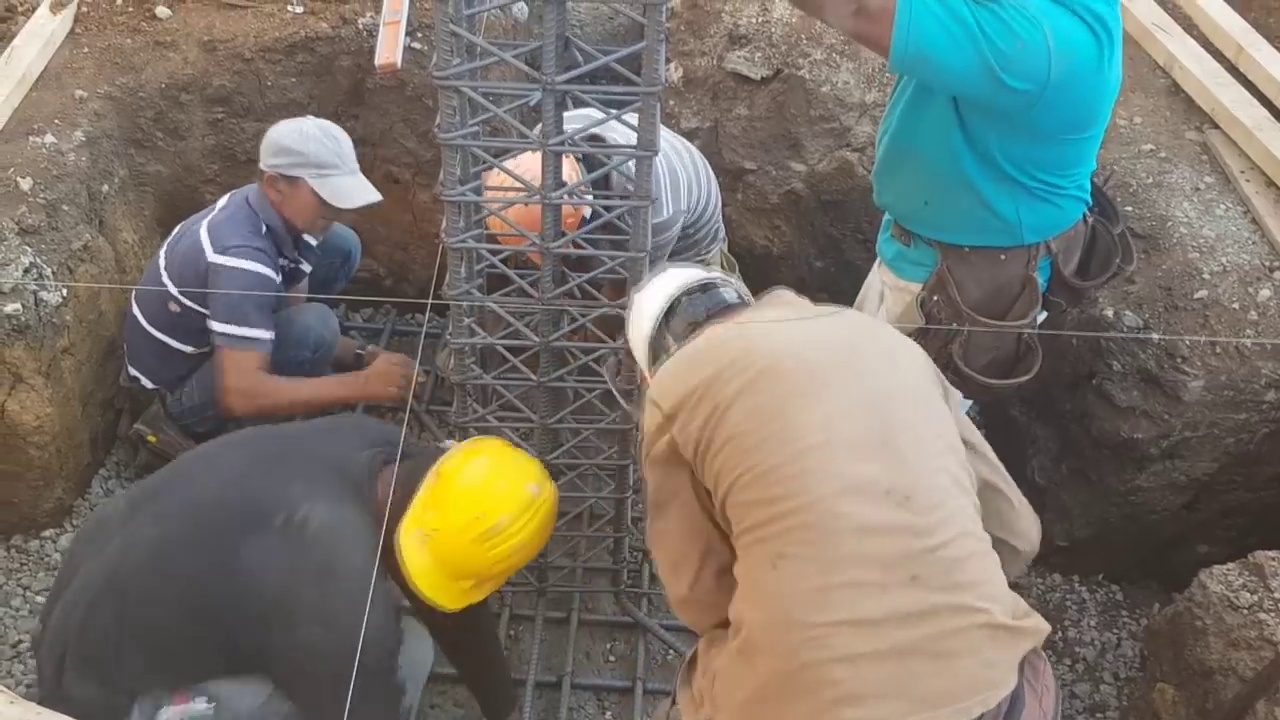helmet: (390, 432, 562, 623), (617, 260, 742, 374), (485, 159, 599, 259)
helmet-off: (256, 112, 380, 237)
helmet-on: (355, 432, 560, 635), (618, 256, 775, 389), (483, 126, 624, 257)
person: (616, 262, 1057, 720), (28, 413, 565, 720), (788, 3, 1129, 333), (116, 113, 418, 453), (481, 83, 738, 351)
